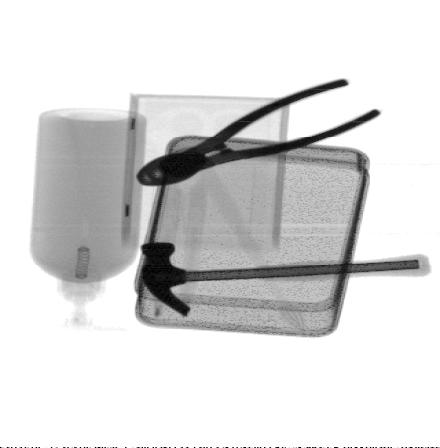Hammer: (140, 241, 433, 317)
Pliers: (135, 78, 383, 187)
